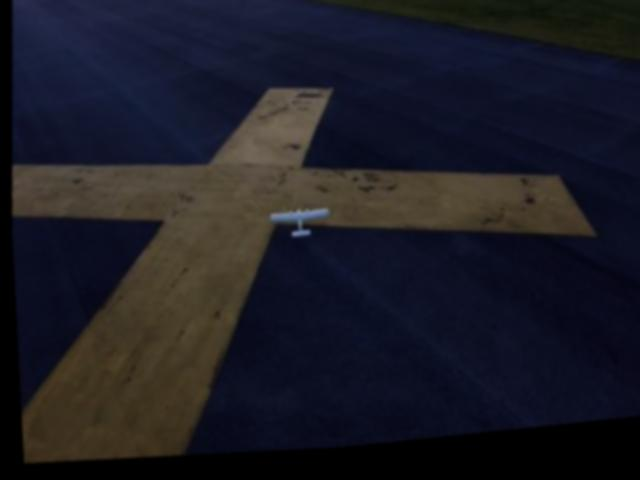uav: (265, 209, 331, 251)
